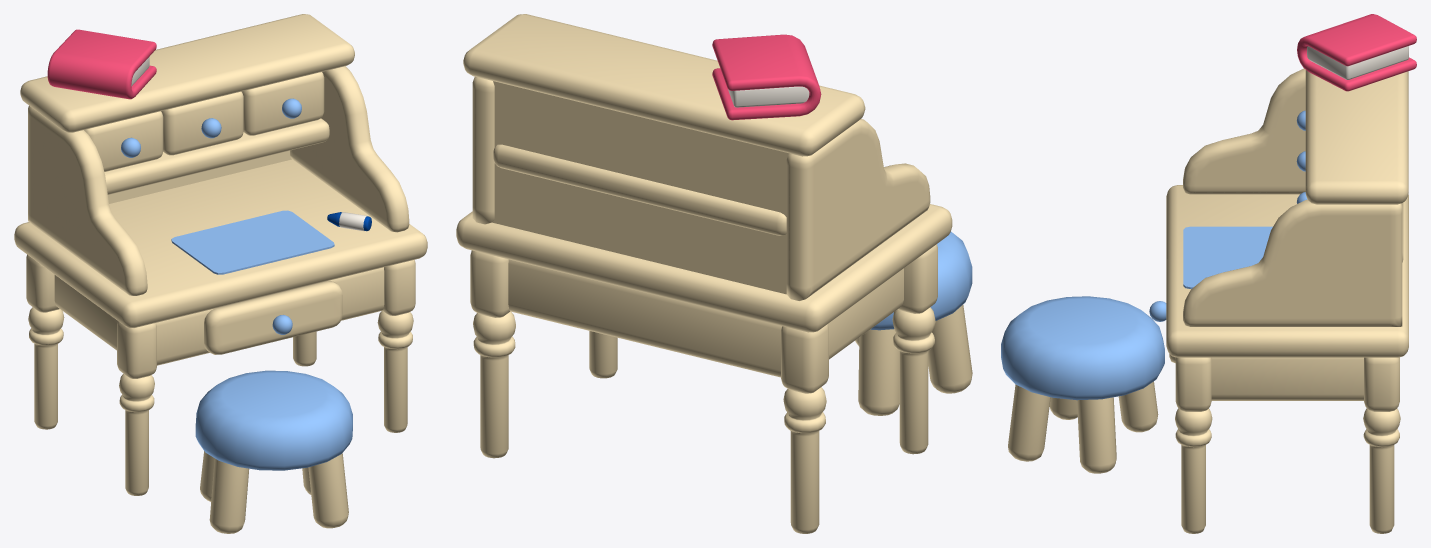
The model's file is Desk.fbx.
The picture shows the model from 3 angles, left to right: view 1: azimuth 30°, elevation 25°; view 2: azimuth 150°, elevation 25°; view 3: azimuth 270°, elevation 25°; orthographic projection. The views are drawn at different scales.
Visible parts, largest first — view 1: DeskTop, DeskTopSide, Stool, DeskPanel, DeskLeg, DeskTopDrawer, DeskBack, DeskDrawer, Paper, Book01, Crayon; view 2: DeskBack, DeskTop, DeskPanel, DeskLeg, DeskTopSide, Stool, Book01; view 3: DeskTopSide, Stool, DeskTop, DeskPanel, DeskLeg, Book01, Paper.
Part boxes in pixels (bbox=[...]): DeskTop: bbox=[14, 159, 427, 365]; DeskTopSide: bbox=[28, 66, 409, 295]; Stool: bbox=[195, 370, 352, 533]; DeskPanel: bbox=[20, 14, 354, 132]; DeskLeg: bbox=[26, 254, 415, 495]; DeskTopDrawer: bbox=[84, 72, 324, 171]; DeskBack: bbox=[104, 118, 329, 203]; DeskDrawer: bbox=[204, 281, 342, 354]; Paper: bbox=[171, 210, 334, 274]; Book01: bbox=[47, 29, 156, 99]; Crayon: bbox=[327, 212, 371, 231]; DeskBack: bbox=[492, 81, 788, 294]; DeskTop: bbox=[456, 204, 952, 377]; DeskPanel: bbox=[463, 14, 865, 156]; DeskLeg: bbox=[470, 244, 937, 533]; DeskTopSide: bbox=[472, 76, 930, 300]; Stool: bbox=[855, 231, 972, 415]; Book01: bbox=[712, 34, 821, 120]; DeskTopSide: bbox=[1183, 68, 1402, 326]; Stool: bbox=[1001, 296, 1164, 473]; DeskTop: bbox=[1166, 185, 1408, 400]; DeskPanel: bbox=[1305, 70, 1408, 204]; DeskLeg: bbox=[1175, 357, 1400, 533]; Book01: bbox=[1297, 14, 1416, 91]; Paper: bbox=[1183, 226, 1272, 288].
Bounding box in the file's own units: 1.61 × 1.9 × 1.83.
